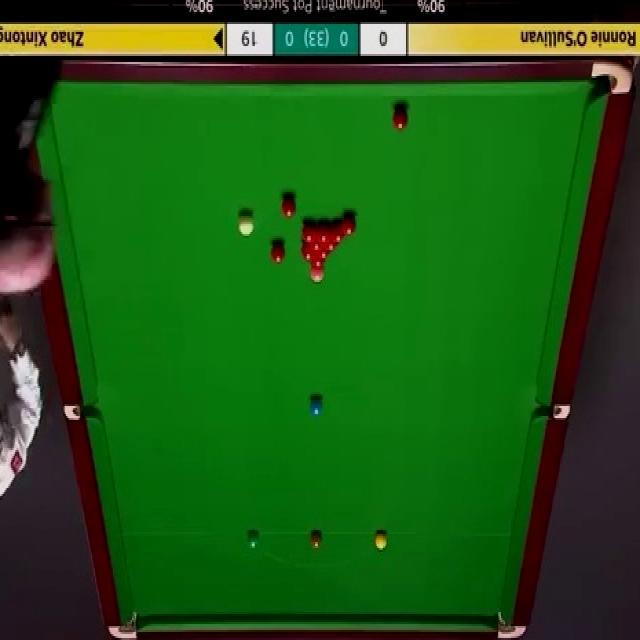blue-ball: (309, 394, 323, 417)
brown-ball: (310, 529, 323, 549)
green-ball: (247, 530, 260, 551)
pink-ball: (310, 271, 326, 285)
red-ball: (269, 239, 285, 265), (392, 106, 408, 130), (341, 211, 357, 235), (316, 220, 331, 243), (302, 222, 317, 244), (330, 221, 345, 242), (282, 196, 296, 218), (300, 242, 316, 261), (310, 257, 324, 269), (323, 240, 337, 251), (316, 249, 330, 260), (310, 240, 322, 250)
white-ball: (238, 212, 255, 237)
yellow-ball: (375, 531, 388, 552)
